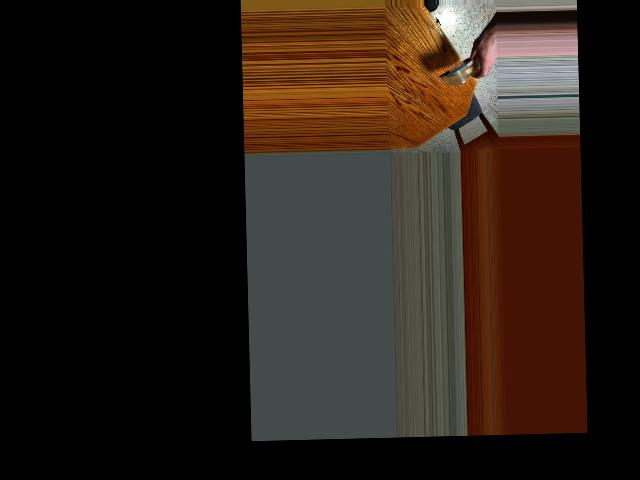cheese: (439, 57, 483, 86)
